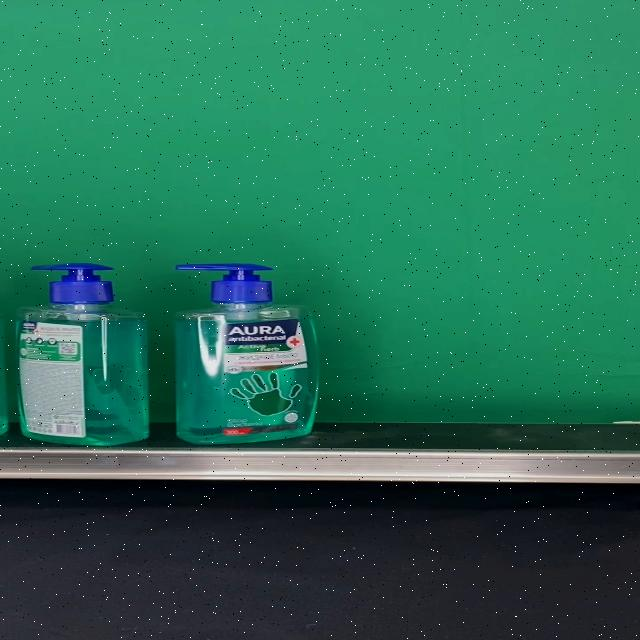Bottle: (172, 264, 320, 444), (13, 263, 150, 446)
Cap: (177, 264, 273, 306), (31, 263, 115, 305)
